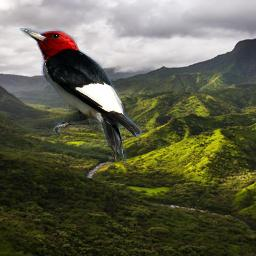Woodpecker: (18, 28, 144, 166)
